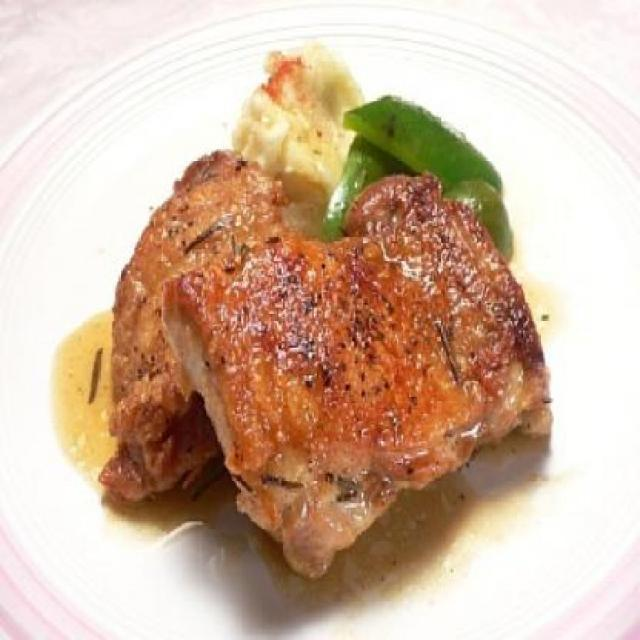Chicken roast: (124, 145, 560, 542)
